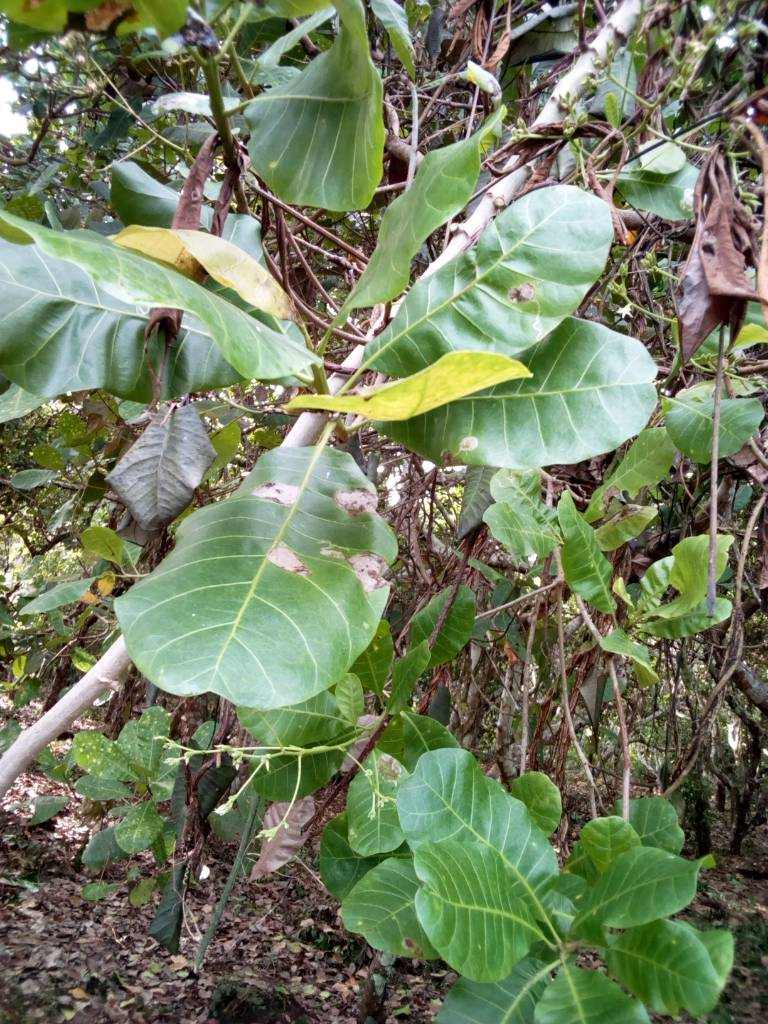Helopeltis anacardii: (1, 221, 285, 399), (365, 182, 616, 367)
